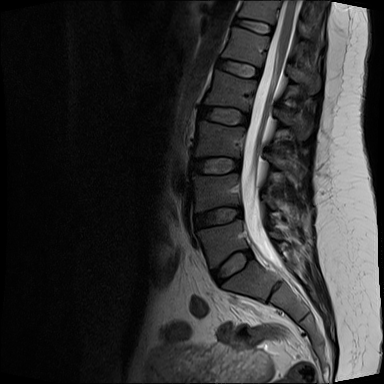Lumbar Disc Bulge (LDB): (190, 200, 249, 235)
Normal IVD: (207, 246, 255, 291), (193, 101, 252, 131), (208, 55, 266, 84), (183, 155, 244, 179), (229, 15, 277, 38)
Spinal Stenosis (SS): (233, 200, 248, 225)
